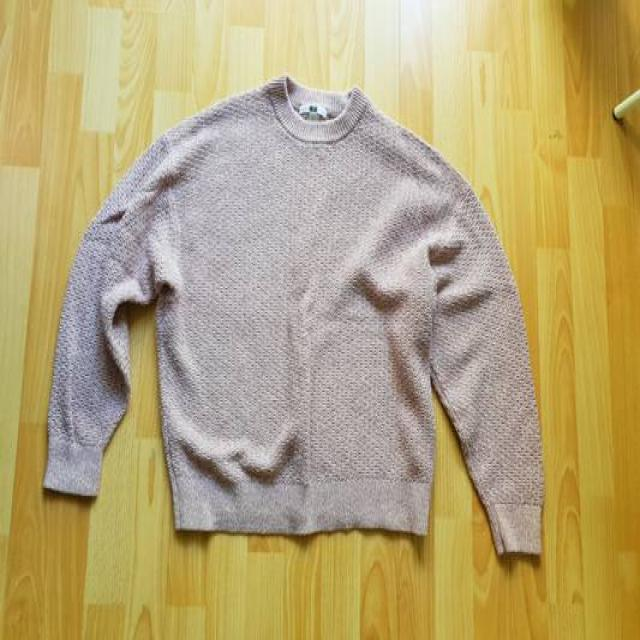Clothes -Biodegradable-: (40, 72, 542, 554)
